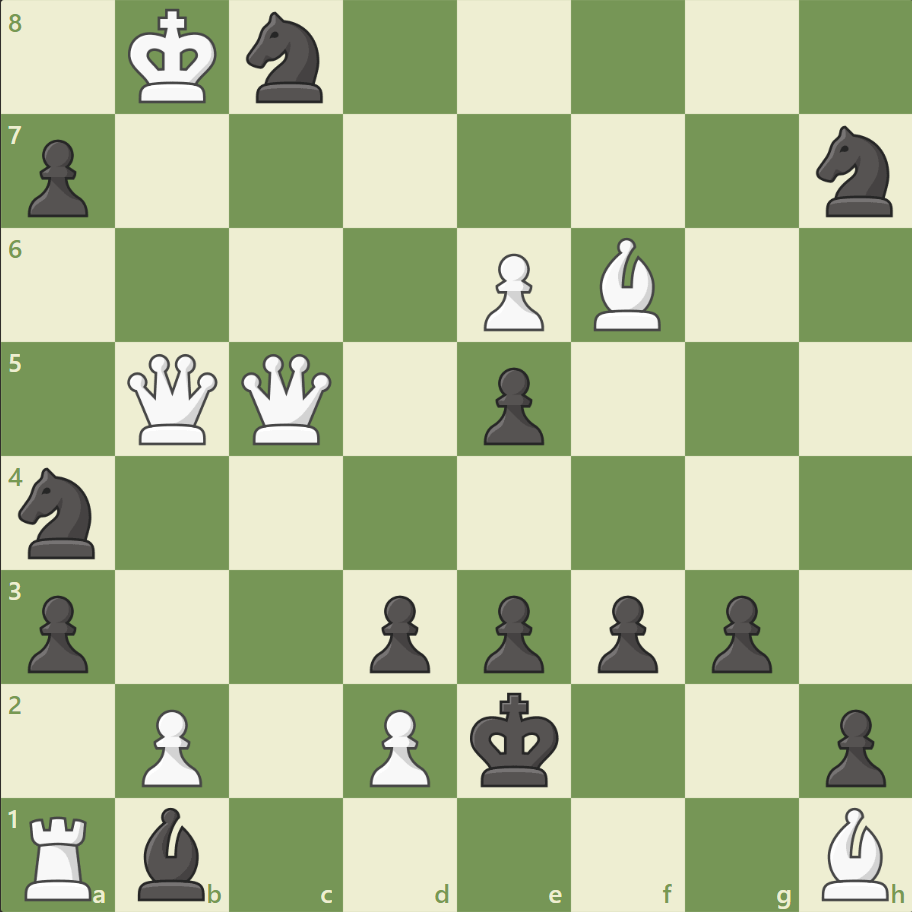B: (585, 233, 669, 336), (812, 801, 896, 904)
K: (124, 4, 224, 112)
P: (474, 246, 549, 337), (133, 700, 208, 791), (361, 700, 435, 791)
Q: (124, 349, 223, 449), (237, 349, 336, 449)
R: (19, 806, 102, 904)
b: (131, 801, 215, 904)
k: (465, 685, 565, 793)
n: (238, 7, 335, 110), (11, 461, 108, 564), (806, 121, 903, 223)
p: (20, 132, 95, 223), (474, 359, 549, 450), (20, 586, 95, 677), (474, 586, 549, 677), (701, 586, 776, 677), (361, 586, 435, 677), (588, 586, 662, 677), (815, 700, 889, 791)
